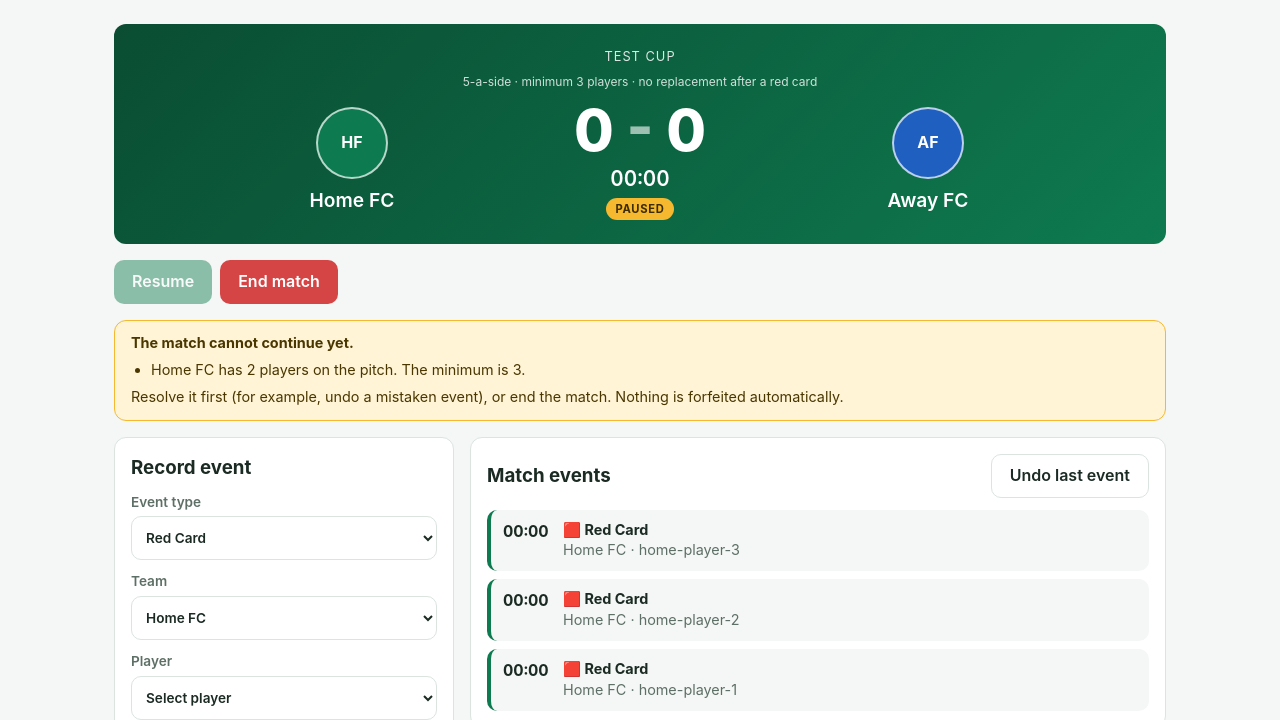
Test case: Match Centre: minimum players rule › can still end the match while blocked, with no forfeit
The width and height of the screenshot is (1280, 720).
Earlier steps of the test are not shown.
What coordinates should you click on to do the following:
click the button "End match"
I would click on:
 (279, 282)
Its box is left=220, top=260, right=338, bottom=304.
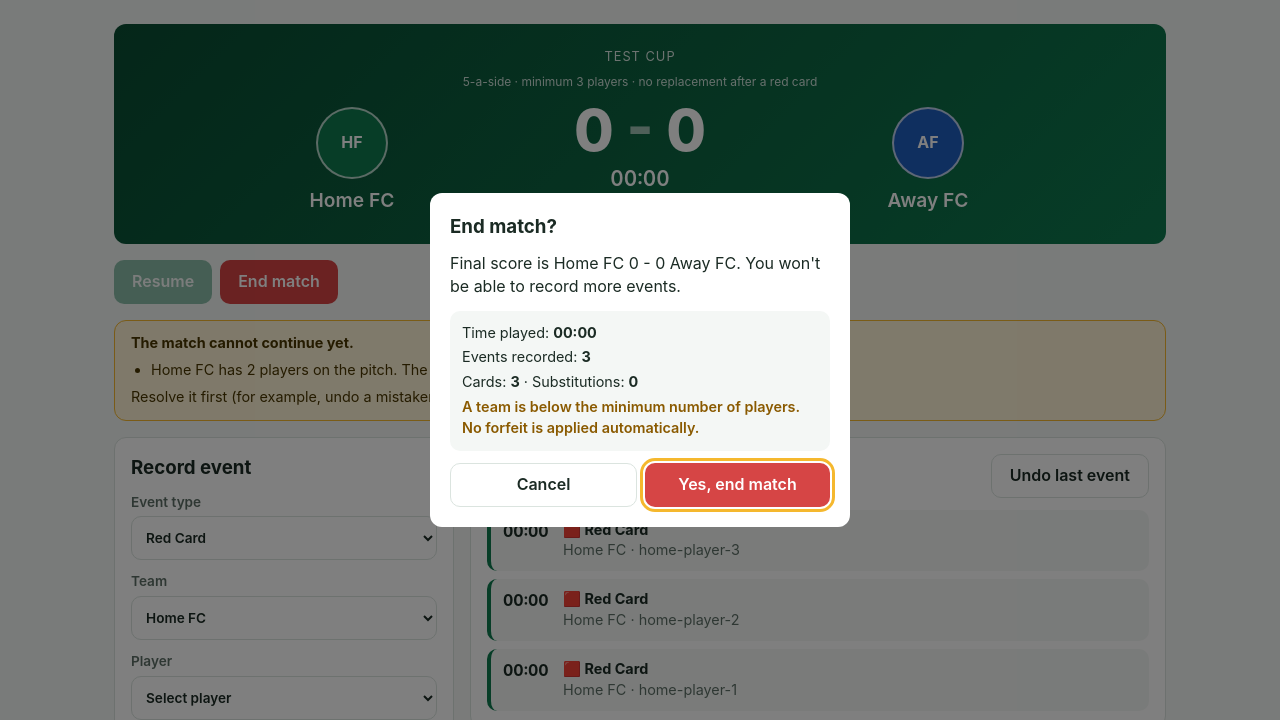
Now the list item with class "modal-warning" is shown, box left=462, top=397, right=818, bottom=439
What coordinates should you click on to do the following:
click the button "Yes, end match"
I would click on:
 (738, 485)
Its box is left=645, top=463, right=830, bottom=507.
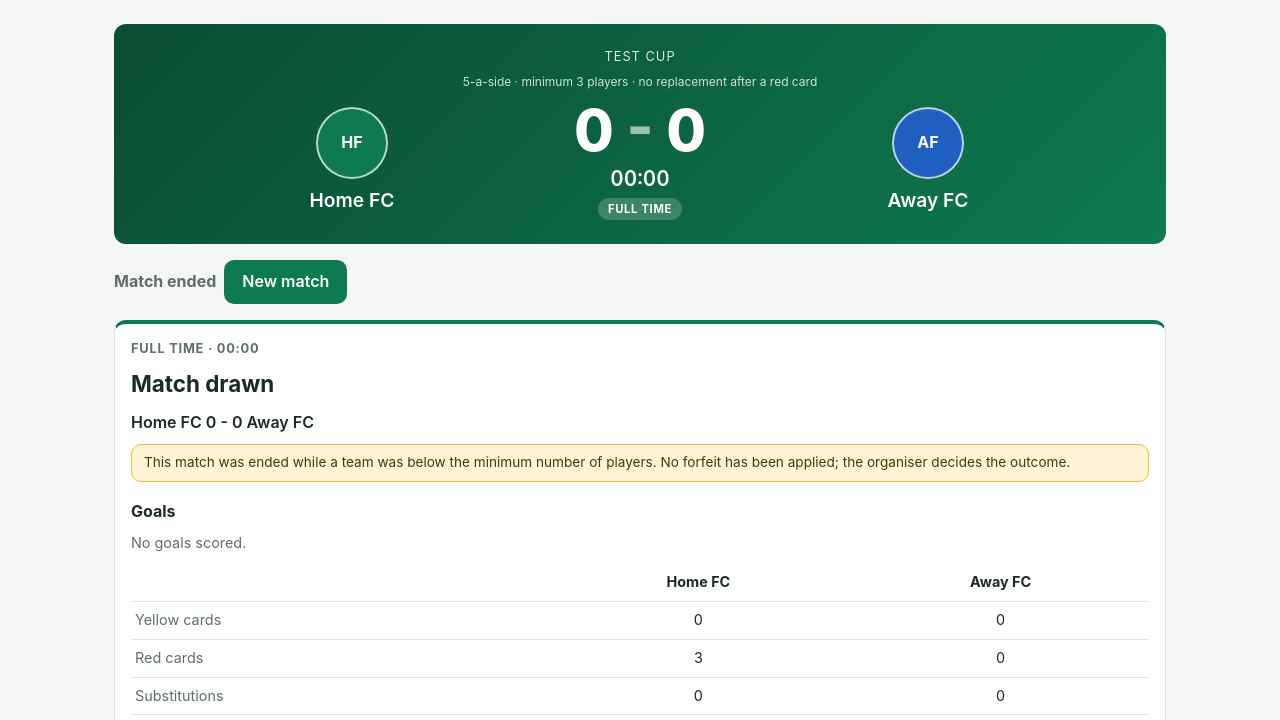
Now the text with class "status" reads "Full time", box left=608, top=202, right=672, bottom=216
Now the text with class "warning" is shown, box left=131, top=444, right=1149, bottom=482
